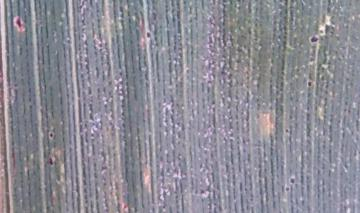tarspot: (11, 13, 26, 33), (44, 152, 56, 169), (304, 77, 317, 90), (308, 34, 321, 47), (143, 29, 154, 41), (287, 174, 298, 186), (46, 129, 56, 141), (282, 184, 292, 195), (283, 126, 291, 135)
